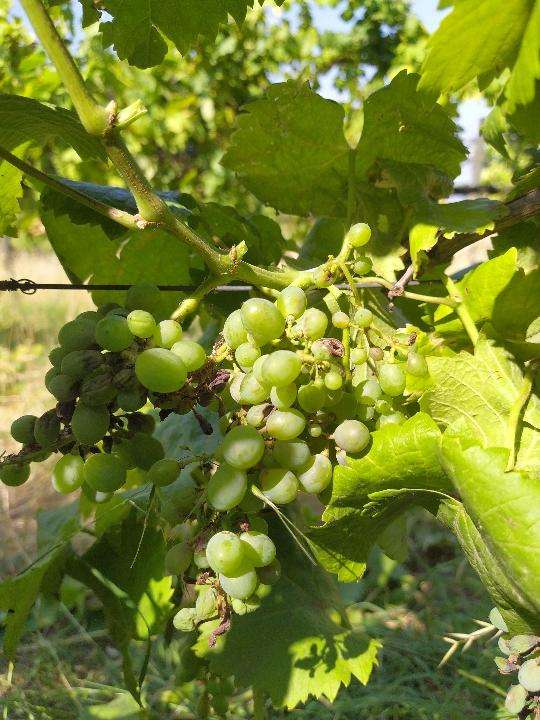grape: (149, 220, 431, 648), (4, 281, 208, 507)
